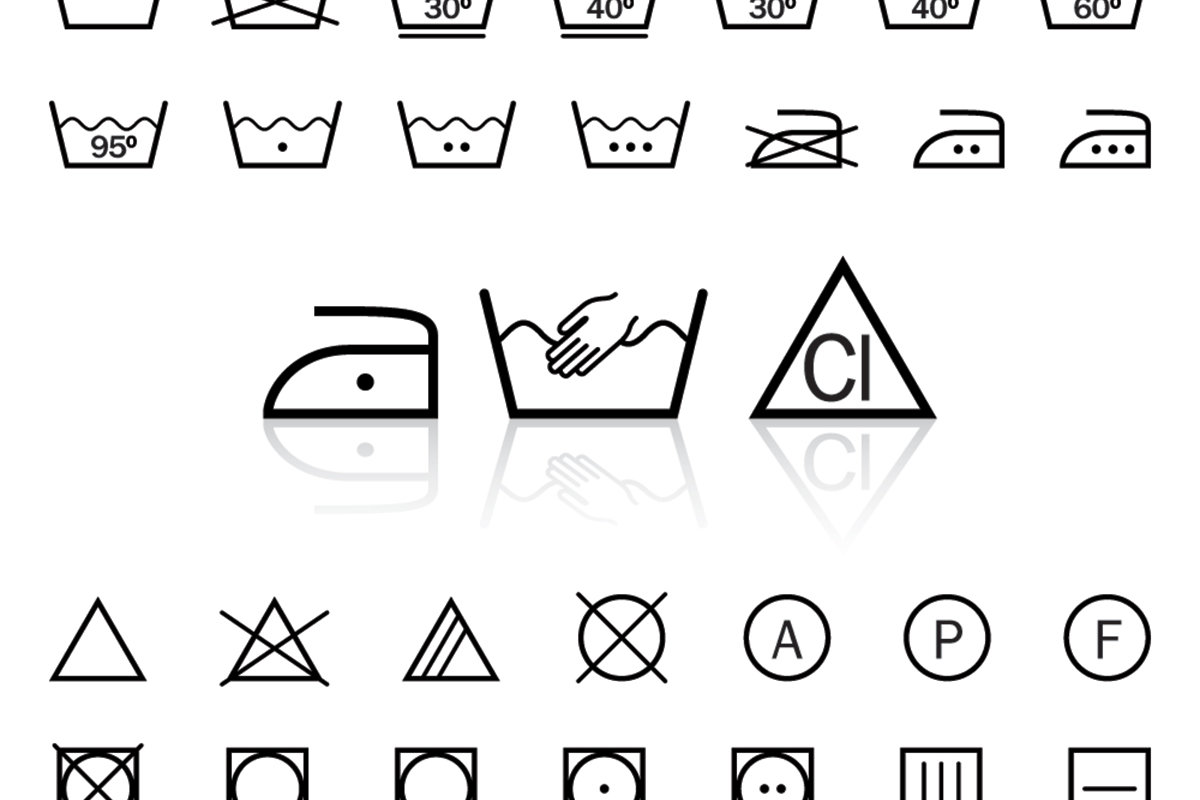ER_bleach: (42, 590, 154, 686)
ER_chlorine_bleach: (742, 247, 949, 430)
ER_dry_clean_chemical: (897, 585, 997, 687)
ER_dry_clean_hydrocarbon: (1052, 582, 1162, 688)
ER_hand_wash: (470, 279, 717, 442)
ER_iron_high_temp: (1049, 99, 1157, 179)
ER_iron_low_temp: (249, 285, 449, 437)
ER_iron_medium_temp: (897, 97, 1018, 183)
ER_no_bleach: (217, 594, 333, 698)
ER_no_dry_clean: (557, 580, 683, 696)
ER_no_iron: (737, 102, 867, 181)
ER_non_chlorine_bleach: (395, 592, 506, 699)
ER_wash_95: (44, 90, 176, 177)
